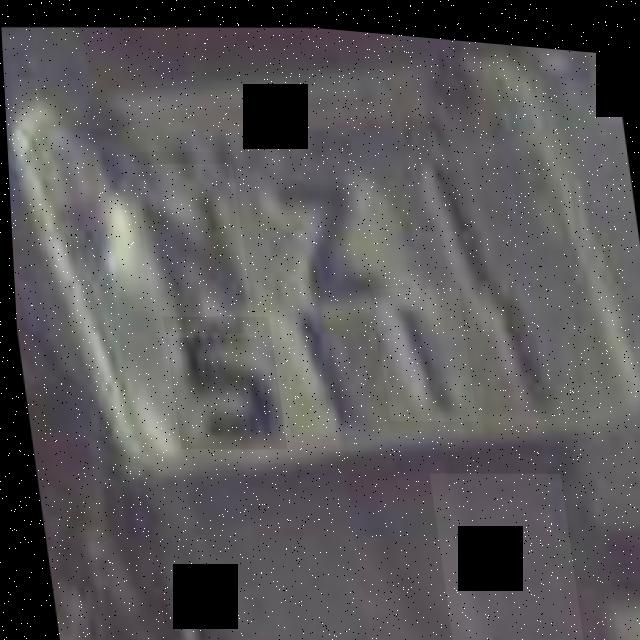1: (369, 274, 472, 420)
5: (159, 304, 283, 453)
J: (424, 454, 581, 640)
N: (130, 152, 253, 341)
W: (129, 141, 247, 336)
Z: (255, 161, 385, 315)
